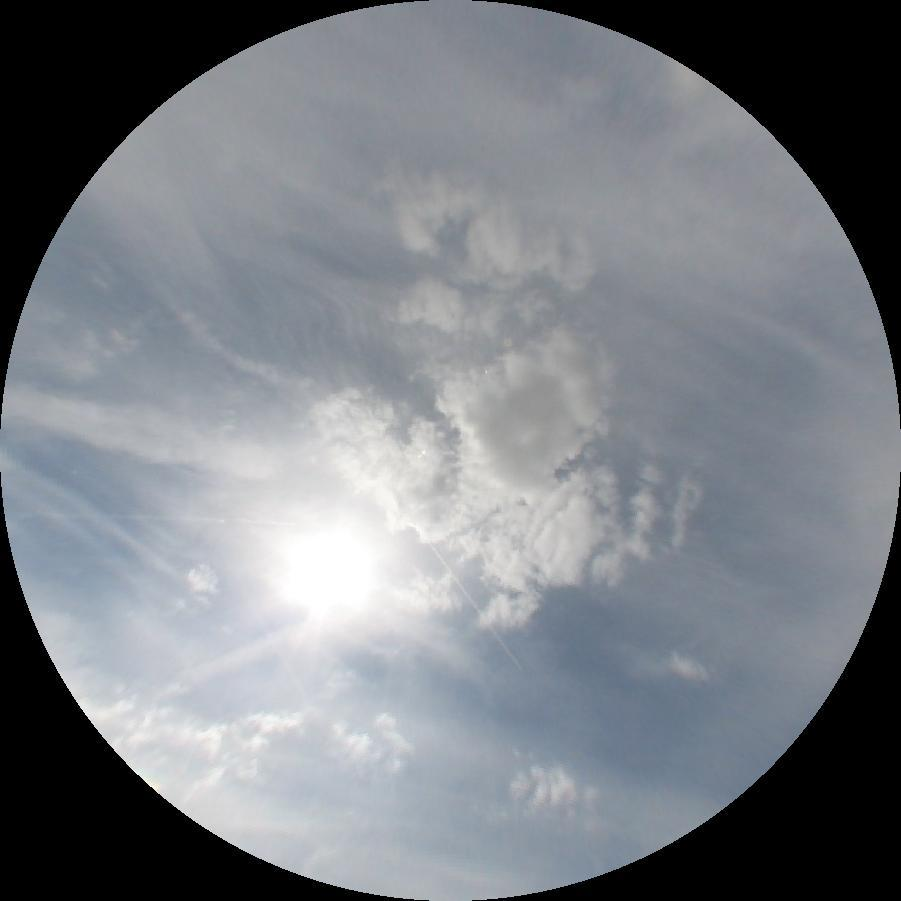contrail young: (427, 542, 525, 672)
parasite: (5, 512, 320, 526)
sun: (278, 528, 372, 618)
